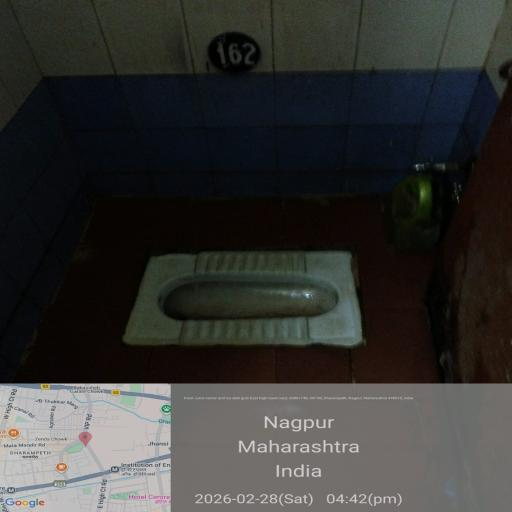dirty_floor: (18, 226, 486, 512), (86, 60, 478, 208)
dirty_indian: (123, 241, 387, 355)
